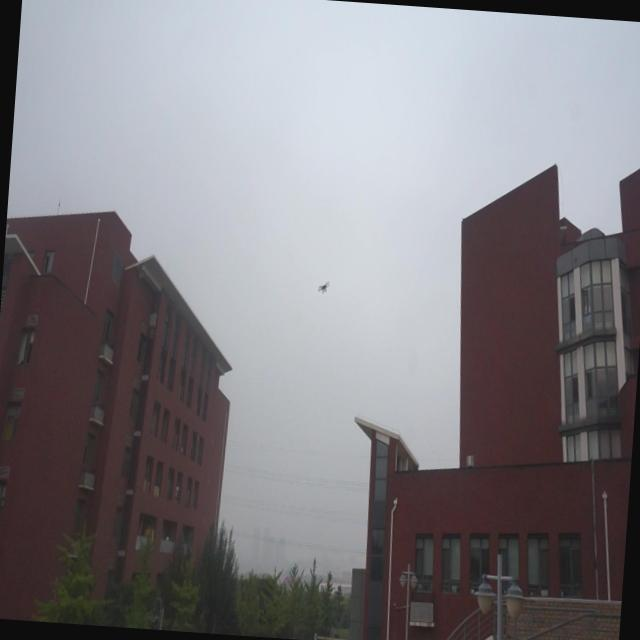drone: (316, 278, 332, 296)
